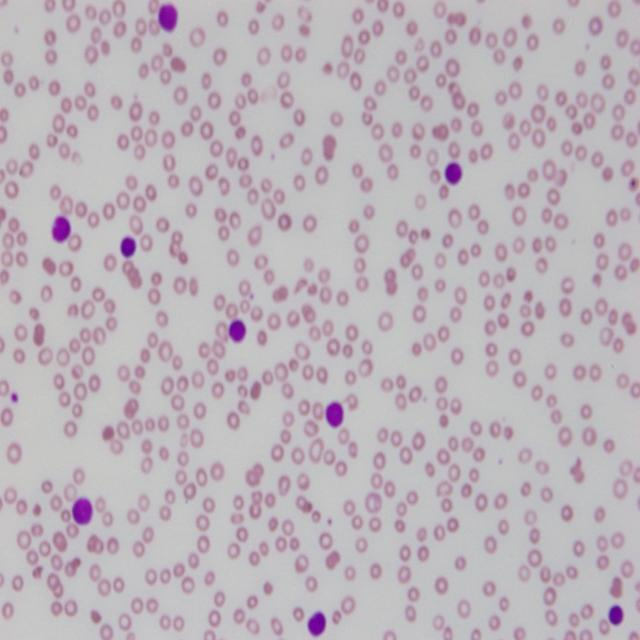cell: (72, 498, 92, 525), (159, 5, 178, 32), (51, 217, 71, 242), (325, 402, 344, 428), (308, 612, 326, 637), (229, 320, 246, 342), (445, 163, 462, 185), (120, 237, 136, 257), (609, 605, 624, 625)
